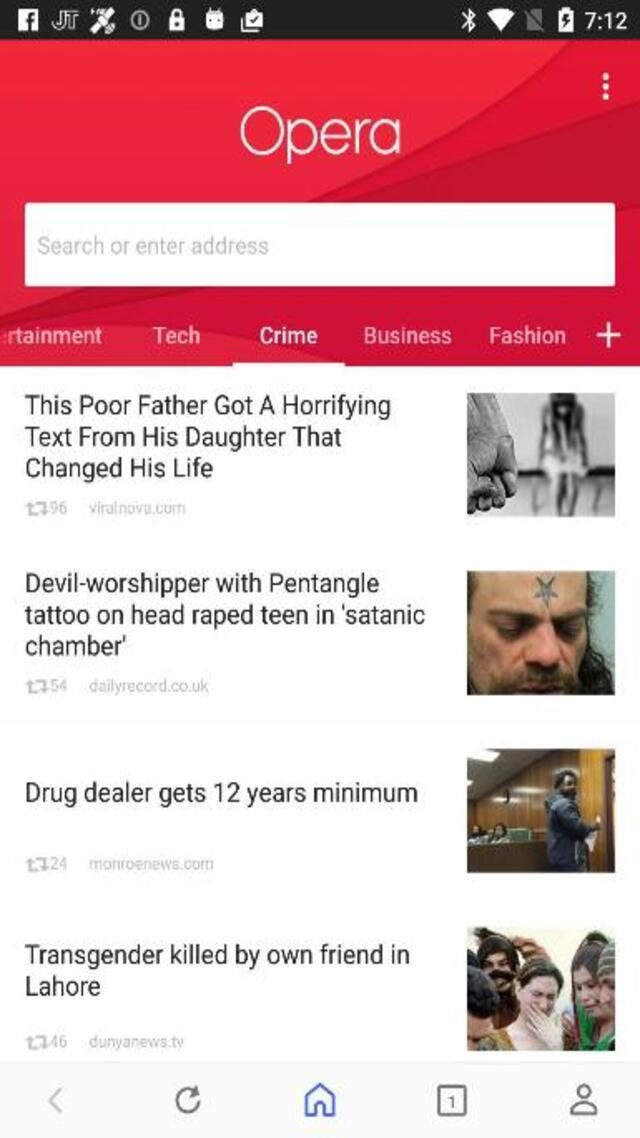Icon: (466, 927, 614, 1050), (466, 572, 614, 695), (466, 750, 614, 872), (466, 394, 614, 516), (305, 1082, 337, 1116), (437, 1083, 467, 1115), (570, 1083, 598, 1115), (174, 1084, 202, 1114), (596, 322, 621, 347), (48, 1087, 62, 1114), (25, 502, 48, 516), (26, 680, 49, 694), (25, 857, 48, 871), (25, 1035, 48, 1049), (603, 73, 611, 101)
Text: (26, 942, 410, 996), (18, 601, 430, 630), (22, 390, 393, 422), (26, 782, 417, 808), (21, 571, 383, 599), (240, 106, 402, 164), (22, 424, 345, 453), (22, 454, 217, 485), (39, 236, 268, 254), (19, 631, 134, 660), (90, 678, 210, 696), (1, 326, 102, 344), (364, 326, 450, 346), (89, 1034, 184, 1050), (89, 858, 214, 870), (491, 324, 566, 344), (90, 500, 186, 514), (260, 326, 318, 344), (153, 324, 200, 344), (50, 1034, 66, 1046), (50, 856, 66, 868), (50, 501, 66, 513), (50, 679, 66, 690)
